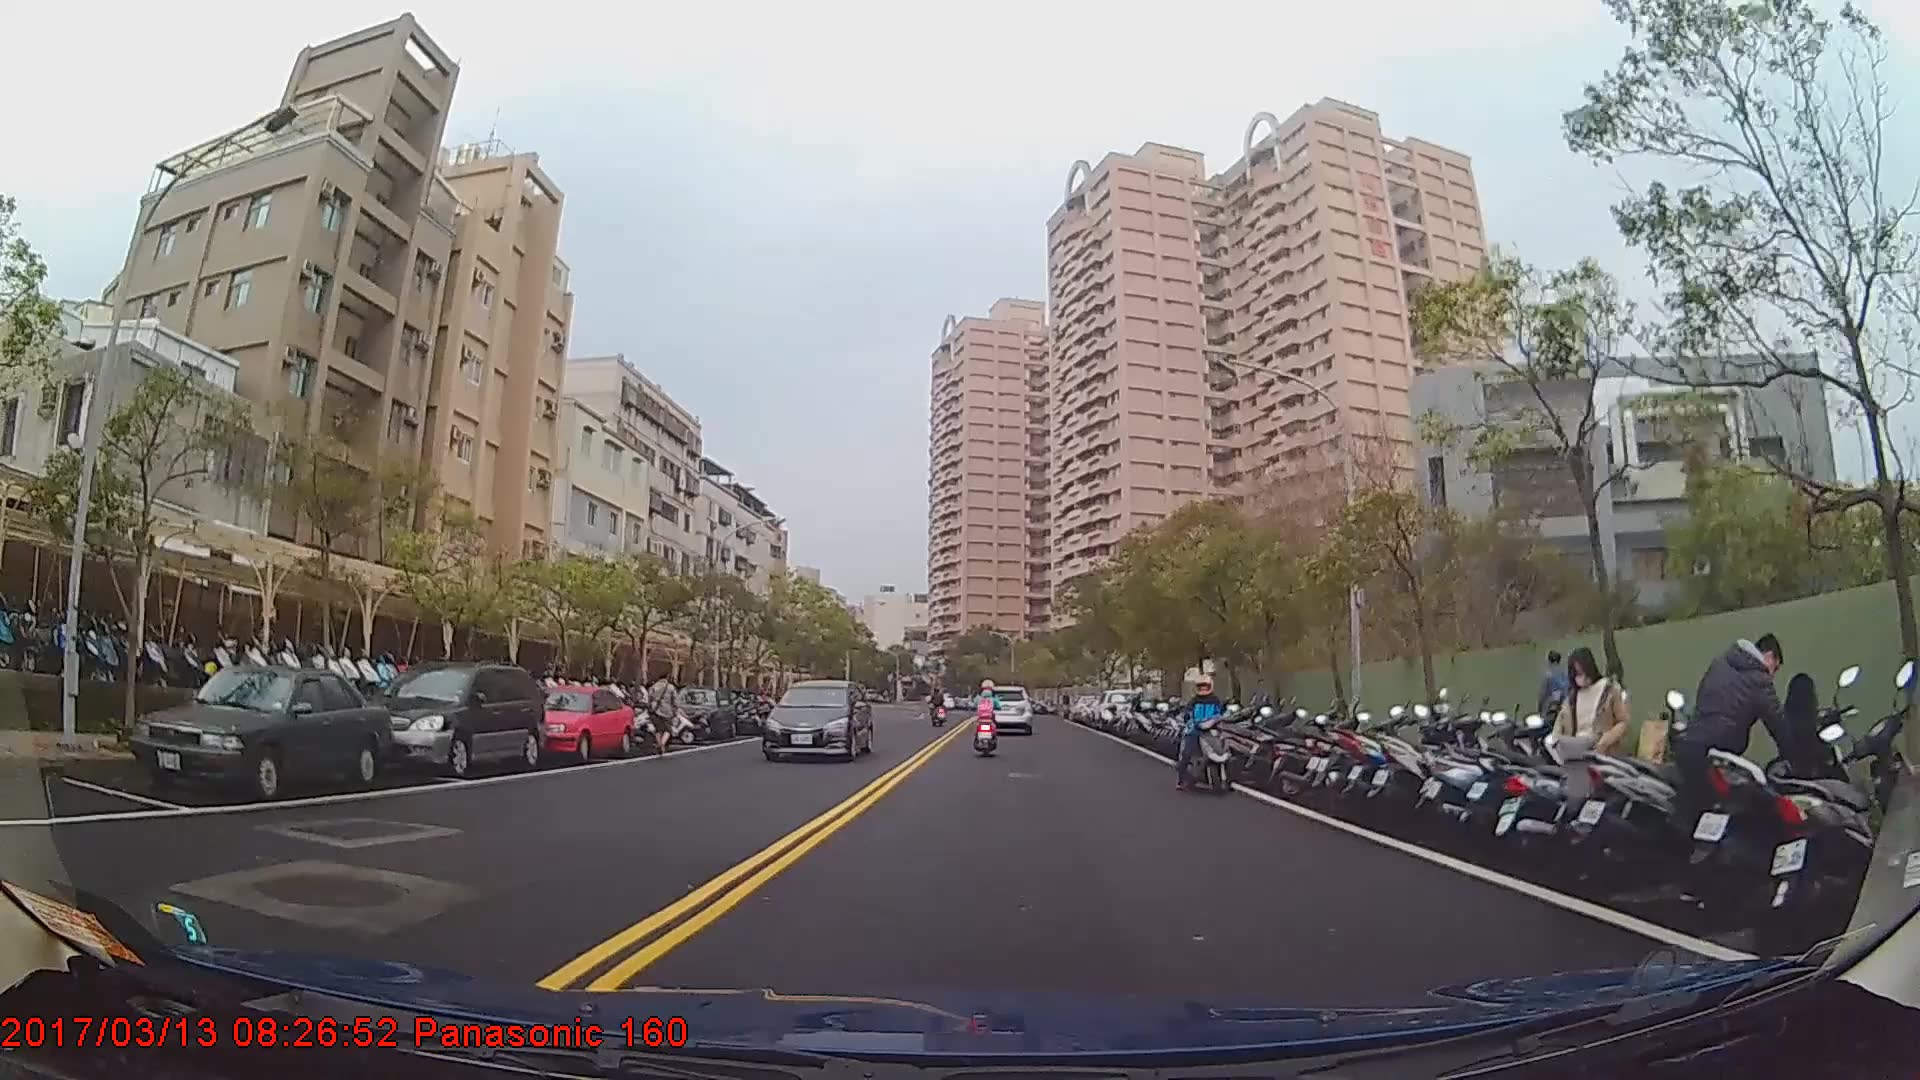pedestrian: (1680, 638, 1818, 884), (1558, 644, 1635, 866), (1541, 641, 1583, 778), (640, 672, 685, 762)
rider: (1174, 675, 1236, 797), (970, 681, 1002, 755), (928, 689, 948, 727)
vehicle: (130, 665, 388, 796), (356, 662, 545, 778), (761, 677, 876, 763), (519, 686, 635, 763), (669, 686, 736, 743), (981, 682, 1034, 738), (1092, 687, 1146, 732)
